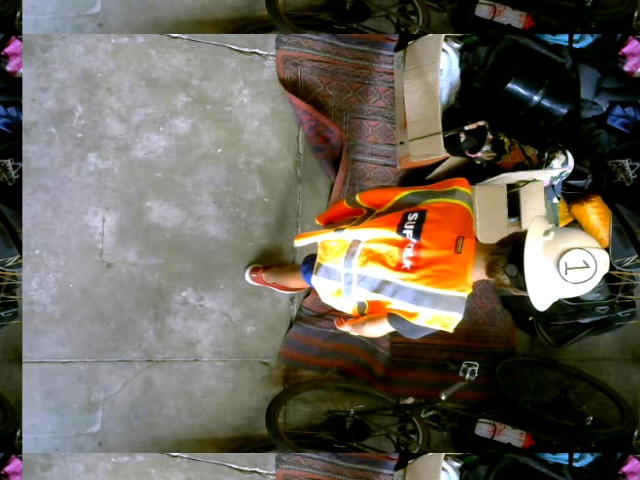one: (558, 248, 596, 283)
